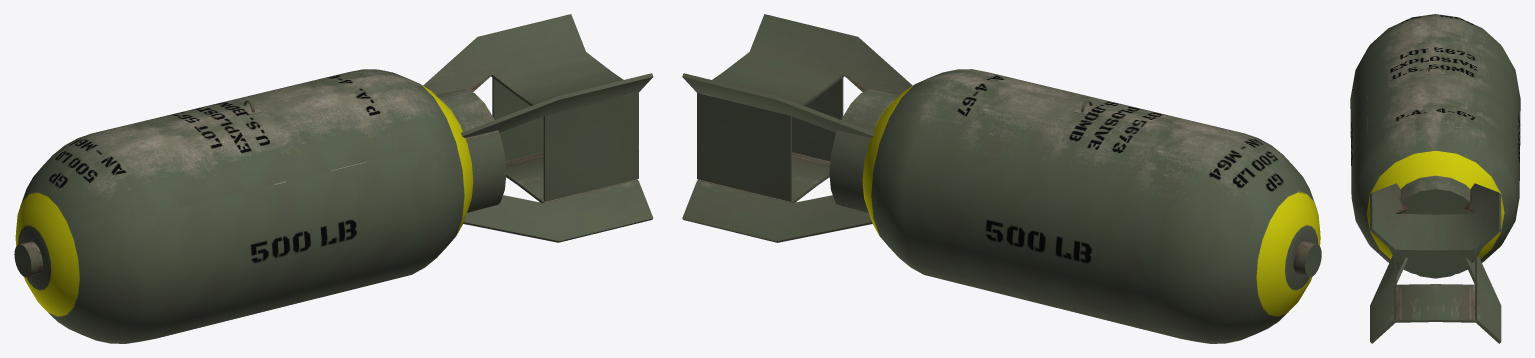
Rendered from Nuke2.fbx.
The picture shows the model from 3 angles, left to right: view 1: azimuth 30°, elevation 25°; view 2: azimuth 150°, elevation 25°; view 3: azimuth 270°, elevation 25°; orthographic projection. The views are drawn at different scales.
Parts seen in each view (by area): view 1: g; view 2: g; view 3: g.
Part boxes in pixels (x1,y1,x2,y2): g: (14,14,653,343); g: (682,14,1321,343); g: (1350,14,1520,343).
Bounding box in the file's own units: 200 × 65.72 × 63.6.
